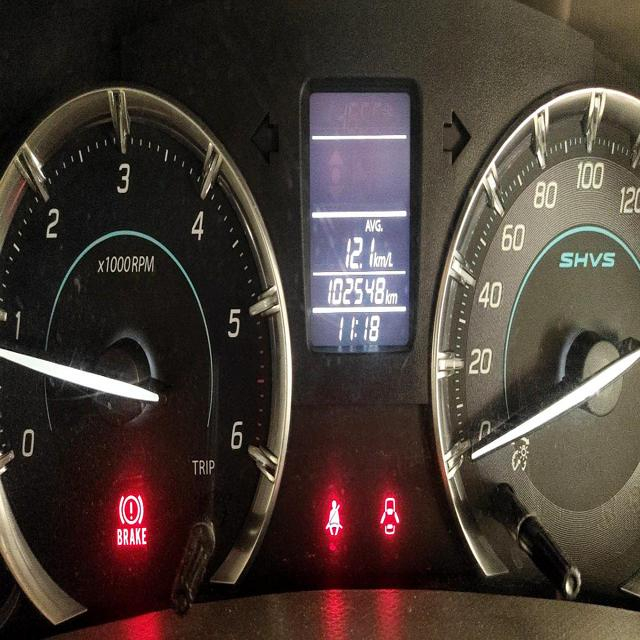odometer: (326, 274, 386, 307)
